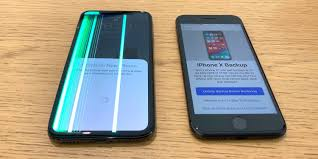iphone: (44, 6, 157, 146), (174, 12, 287, 140)
iphone10: (45, 7, 158, 147), (175, 12, 288, 140)
